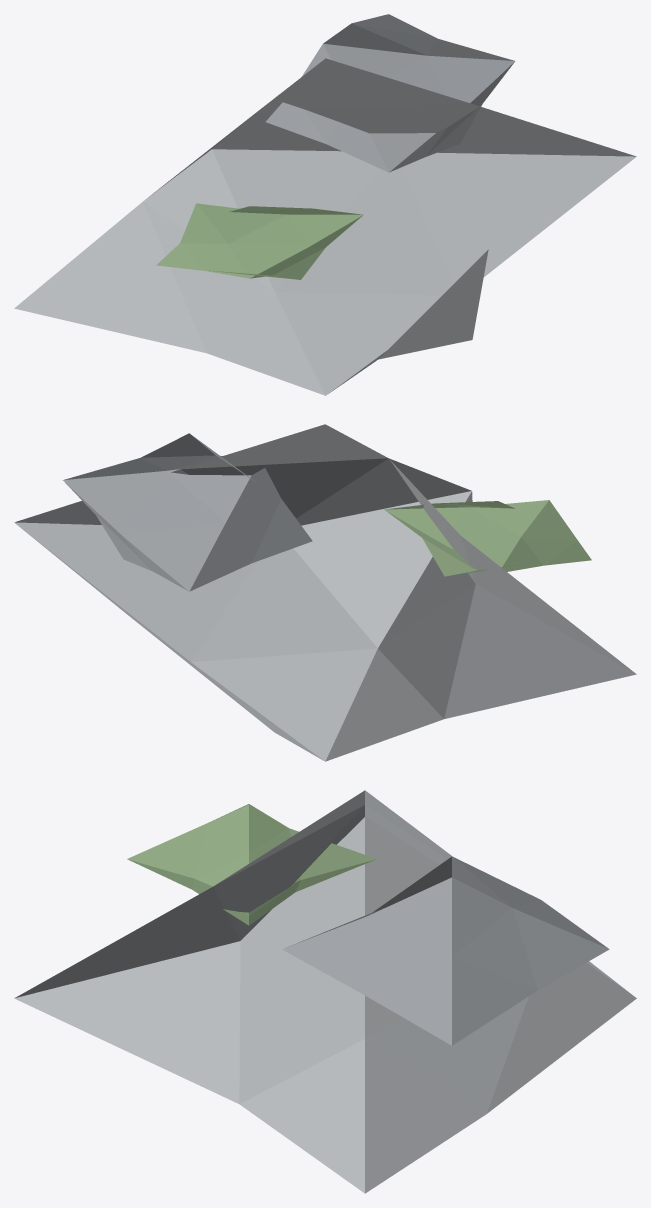
The model's file is boulder_v38.glb.
The picture shows the model from 3 angles, top to bottom: view 1: azimuth 30°, elevation 25°; view 2: azimuth 150°, elevation 25°; view 3: azimuth 270°, elevation 25°; orthographic projection. The views are drawn at different scales.
Visible parts, largest first — view 1: lod0; view 2: lod0; view 3: lod0.
Part boxes in pixels (bbox=[...]): lod0: bbox=[14, 14, 636, 395]; lod0: bbox=[14, 424, 636, 761]; lod0: bbox=[14, 790, 636, 1193].
Size of what is drawn, in the model's own units: 3.85 by 2 by 2.79.
